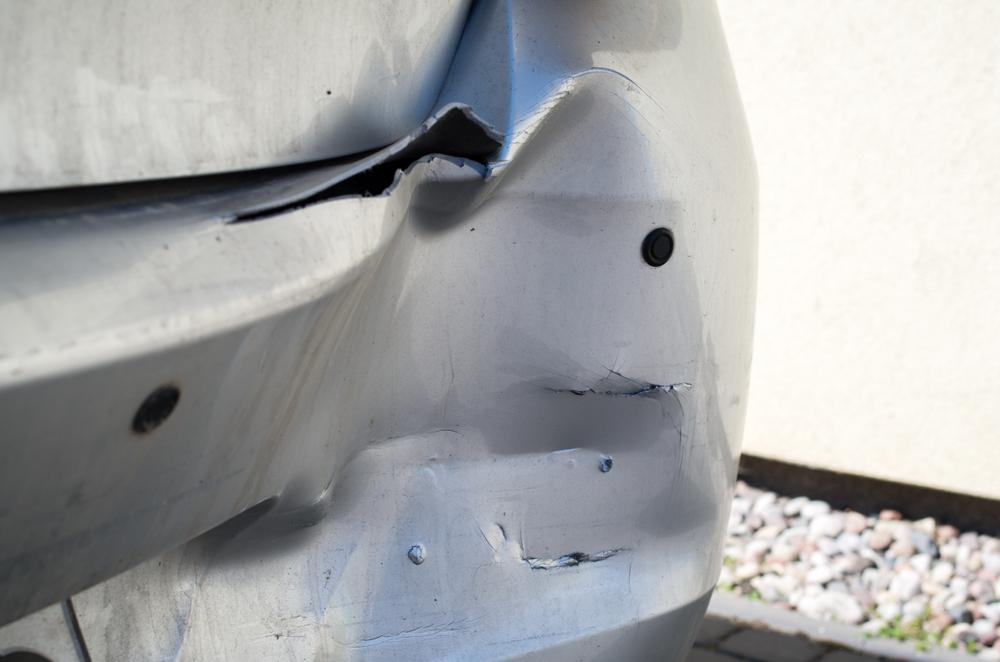crack: (217, 102, 511, 228)
dent: (186, 81, 720, 642)
